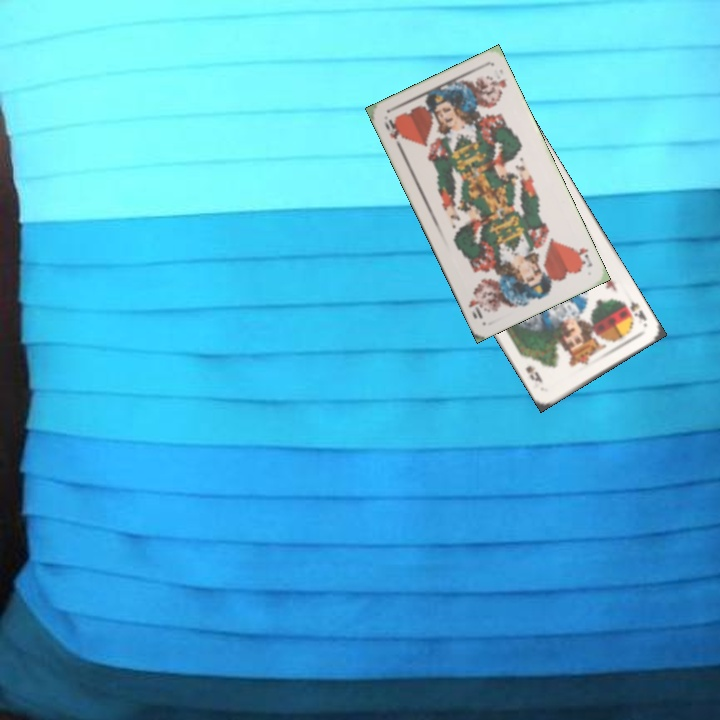HO: (381, 115, 406, 153), (569, 243, 595, 270)
SK: (619, 297, 650, 329)
